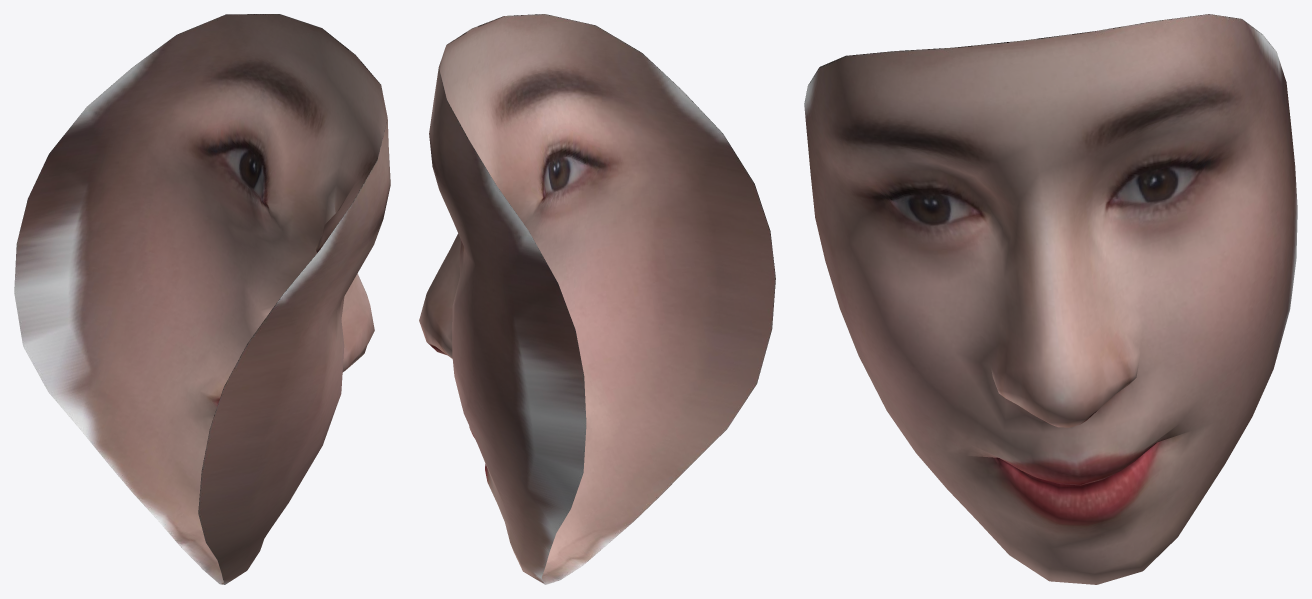
File: bigo_vietnam.glb
3 views of the same model, side by side, from view 1: azimuth 30°, elevation 25°; view 2: azimuth 150°, elevation 25°; view 3: azimuth 270°, elevation 25° (orthographic). The views are drawn at different scales.
Visible parts, largest first — view 1: bigo_vietnam; view 2: bigo_vietnam; view 3: bigo_vietnam.
Boxes of the visible parts, x1=… form: bigo_vietnam: x1=14, y1=14, x2=390, y2=584; bigo_vietnam: x1=419, y1=14, x2=775, y2=584; bigo_vietnam: x1=804, y1=14, x2=1297, y2=584.
Size of the model in its own units: 0.4379 by 0.8318 by 0.6007.
1 material, 1 textured.
